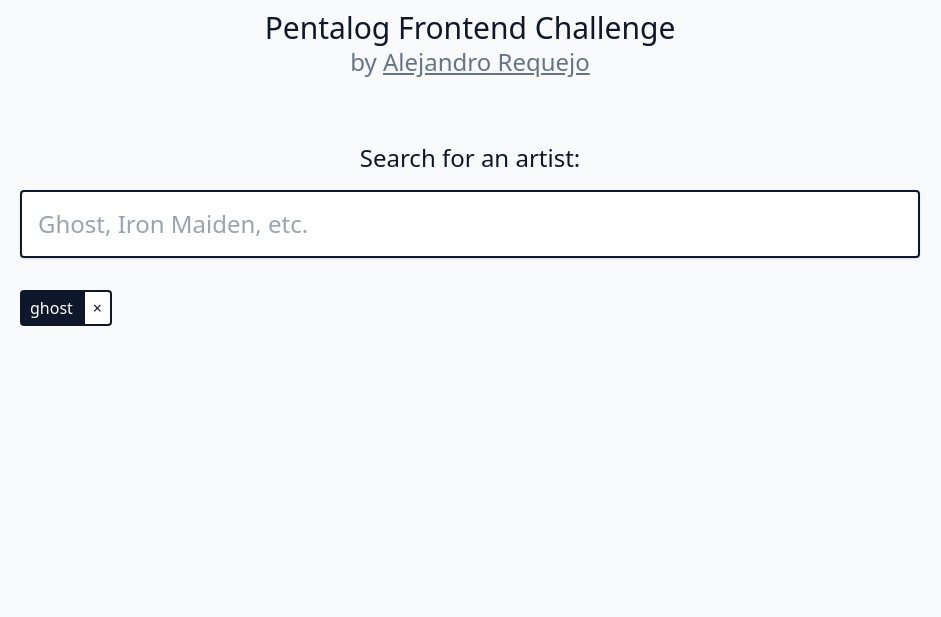
it: <App /> › can search by the history buttons
This screenshot has width=941, height=617.
# First artist
Type "ghost" into the field labelled "Search for an artist:" at (470, 224), box [20,190,920,258]
Then press Enter
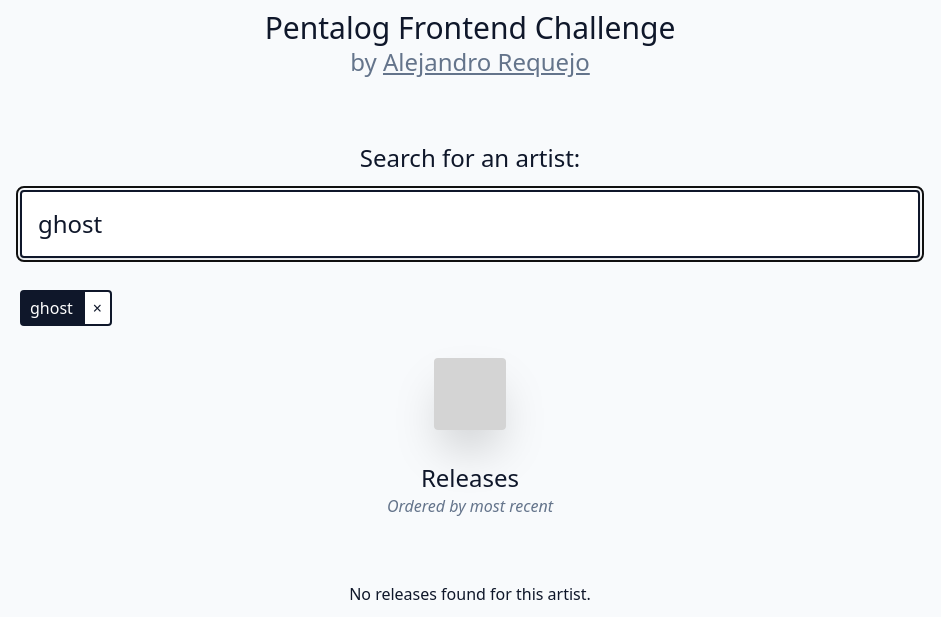
# Second artist
Replace the text in the field labelled "Search for an artist:" with "iron maiden" at (470, 224), box [20,190,920,258]
Then press Enter
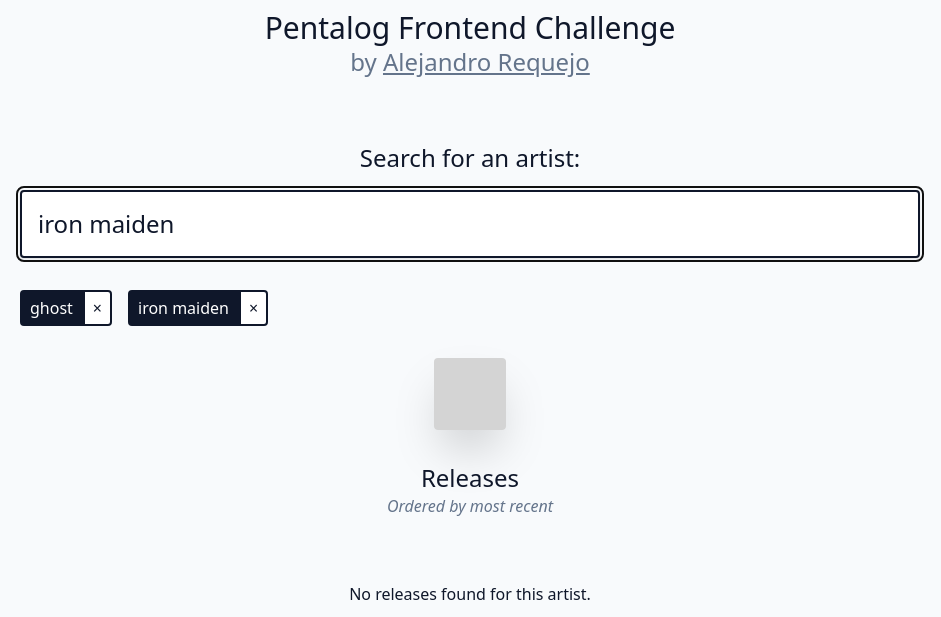
Expected: the number of buttons is 4
Click the button "ghost" at (51, 308), box [20,290,83,326]
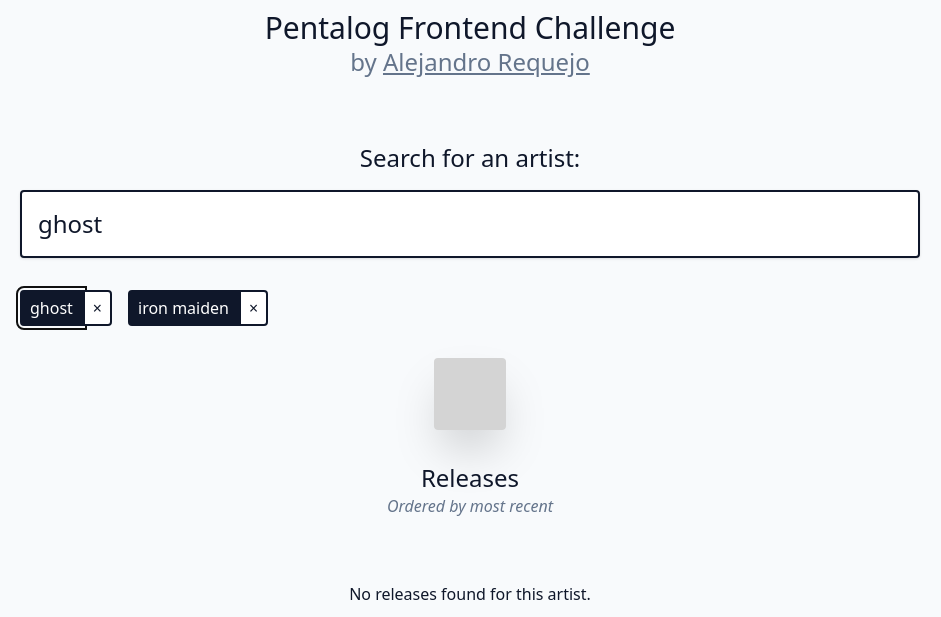
Click the button named "remove iron maiden from history" at (254, 308), box [239,290,268,326]
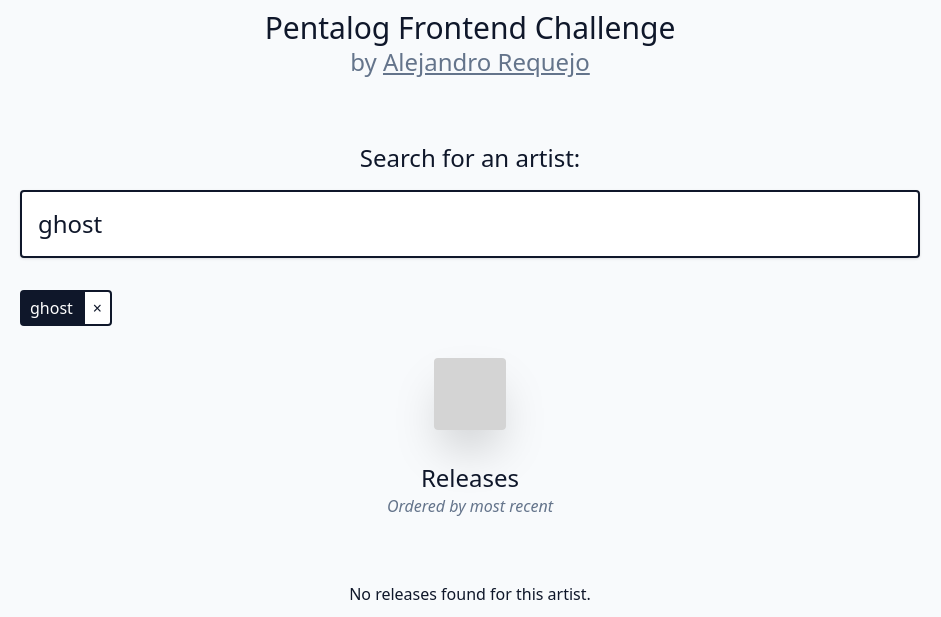
Expected: the number of buttons is 2, [20,290,83,326]; [83,290,112,326]
